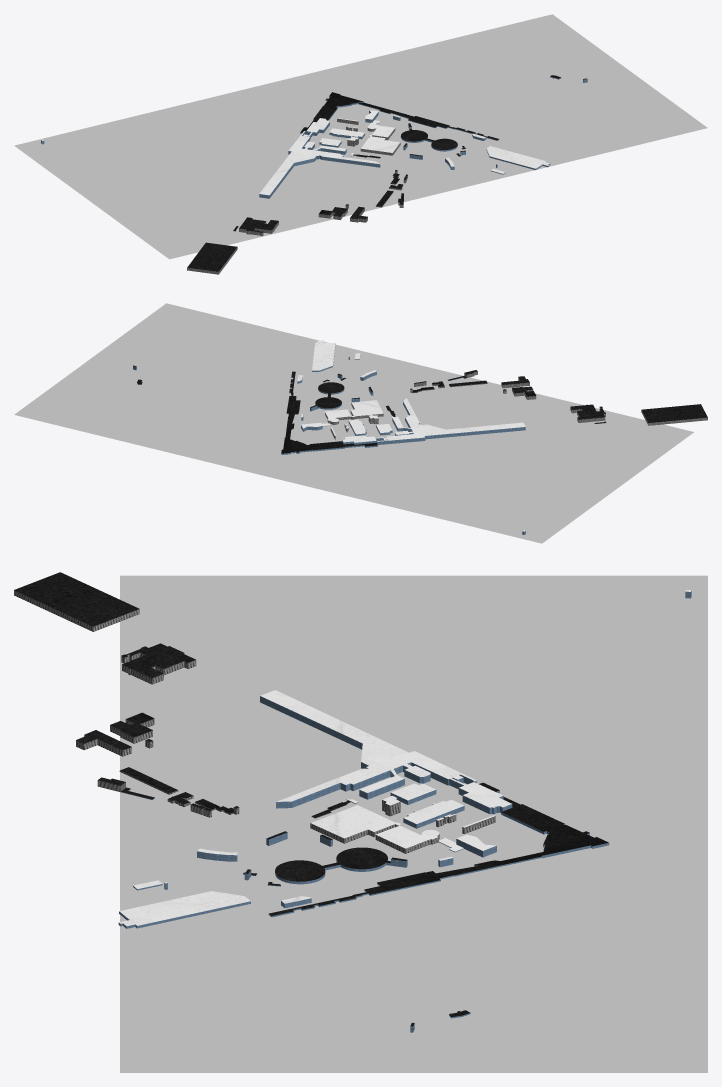
File: helsinkiAirport.fbx
The picture shows the model from 3 angles, top to bottom: view 1: azimuth 30°, elevation 25°; view 2: azimuth 150°, elevation 25°; view 3: azimuth 270°, elevation 25°; orthographic projection. The views are drawn at different scales.
Visible parts, largest first — view 1: EXPORT_GOOGLE_SAT_WM, Roof, Areas:building; view 2: EXPORT_GOOGLE_SAT_WM, Roof, Areas:building; view 3: EXPORT_GOOGLE_SAT_WM, Roof, Areas:building.
Part boxes in pixels (x1,y1,x2,y2): EXPORT_GOOGLE_SAT_WM: [14, 14, 707, 259]; Roof: [41, 75, 586, 271]; Areas:building: [41, 76, 587, 274]; EXPORT_GOOGLE_SAT_WM: [14, 303, 693, 543]; Roof: [133, 340, 707, 531]; Areas:building: [133, 344, 707, 534]; EXPORT_GOOGLE_SAT_WM: [120, 575, 707, 1072]; Roof: [14, 572, 691, 1026]; Areas:building: [14, 590, 691, 1032].
Bounding box in the file's own units: 489197 × 5000 × 288622.
